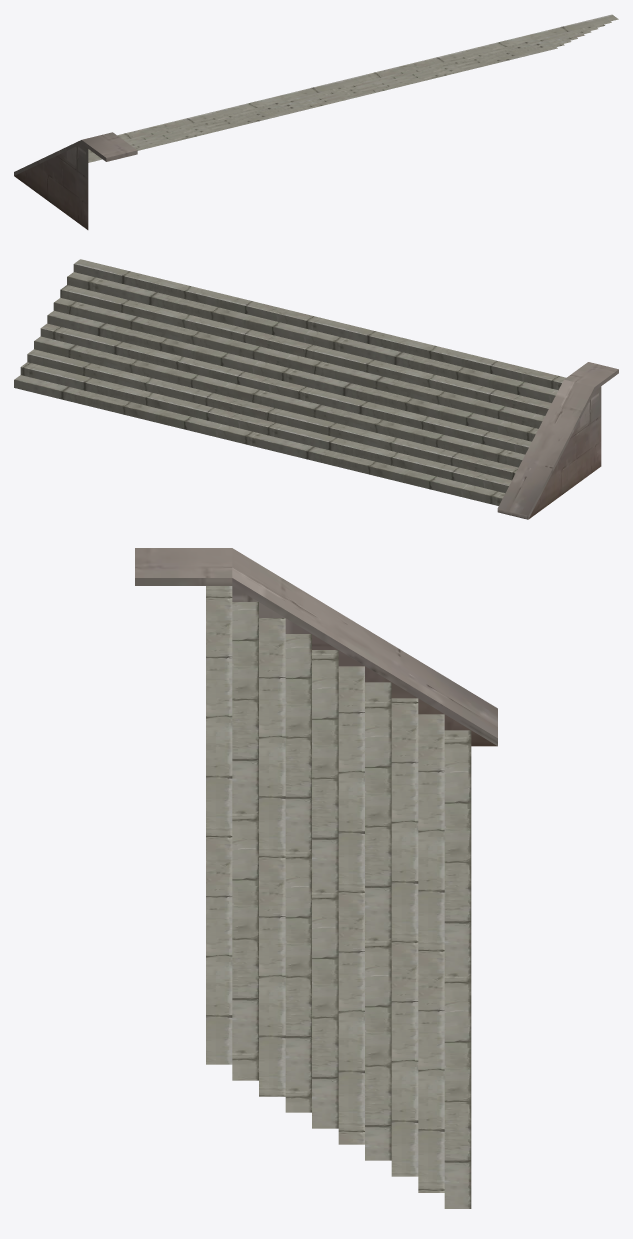
3 renders of one model, top to bottom at view 1: azimuth 30°, elevation 25°; view 2: azimuth 150°, elevation 25°; view 3: azimuth 270°, elevation 25°, orthographic. The views are drawn at different scales.
Parts seen in each view (by area): view 1: body0_model0_lod0_mesh0, body0_model0_lod0_mesh1; view 2: body0_model0_lod0_mesh0, body0_model0_lod0_mesh1; view 3: body0_model0_lod0_mesh0, body0_model0_lod0_mesh1.
Part boxes in pixels (box(x1,y1,x2,y2)): body0_model0_lod0_mesh0: box(88, 14, 618, 162); body0_model0_lod0_mesh1: box(14, 132, 137, 229); body0_model0_lod0_mesh0: box(14, 259, 565, 505); body0_model0_lod0_mesh1: box(497, 362, 618, 519); body0_model0_lod0_mesh0: box(206, 586, 471, 1208); body0_model0_lod0_mesh1: box(135, 548, 497, 746).
Size of the model in its own units: 544 by 84 by 164.
Materials: 3 (3 with a texture image).
